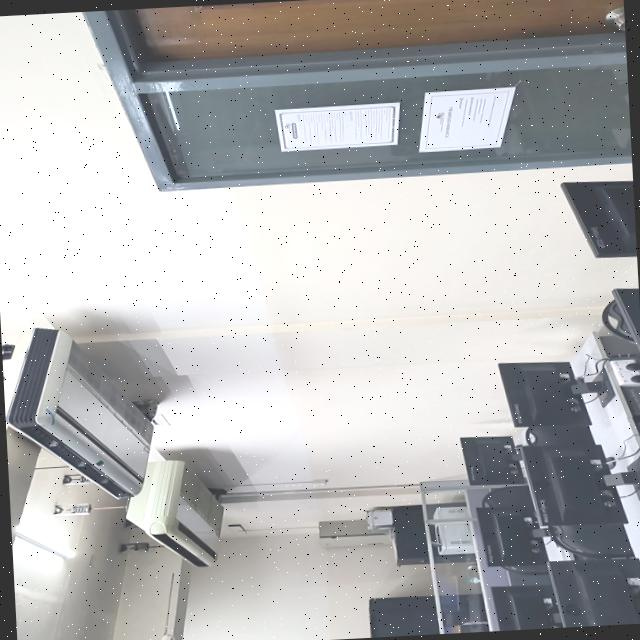Ac: (5, 328, 152, 498), (126, 460, 223, 567)
Chair: (544, 524, 633, 559), (524, 424, 593, 446), (602, 300, 633, 343), (481, 486, 532, 509), (504, 569, 550, 586)
Light: (15, 526, 73, 559)
Monitor: (521, 436, 626, 526), (547, 558, 640, 628), (498, 362, 590, 427), (560, 181, 637, 258), (476, 507, 546, 569), (491, 585, 561, 631), (460, 436, 523, 485), (611, 289, 640, 353)
